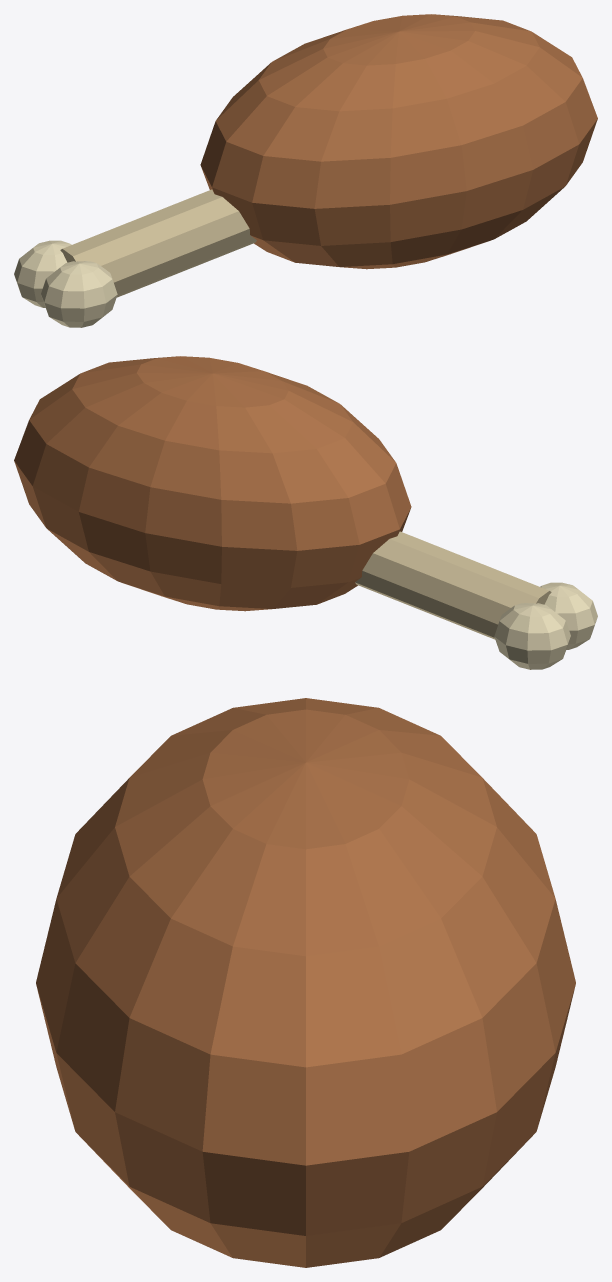
File: AE_Item_RoastLeg.fbx
3 views of the same model, one above another, from view 1: azimuth 30°, elevation 25°; view 2: azimuth 150°, elevation 25°; view 3: azimuth 270°, elevation 25° (orthographic). The views are drawn at different scales.
Visible parts, largest first — view 1: AE_Item_RoastLeg; view 2: AE_Item_RoastLeg; view 3: AE_Item_RoastLeg.
Boxes of the visible parts, x1,y1,x2,y2 form: AE_Item_RoastLeg: (14,14,597,327); AE_Item_RoastLeg: (14,356,597,669); AE_Item_RoastLeg: (36,698,575,1267).
Bounding box in the file's own units: 0.475 × 0.18 × 0.2.
